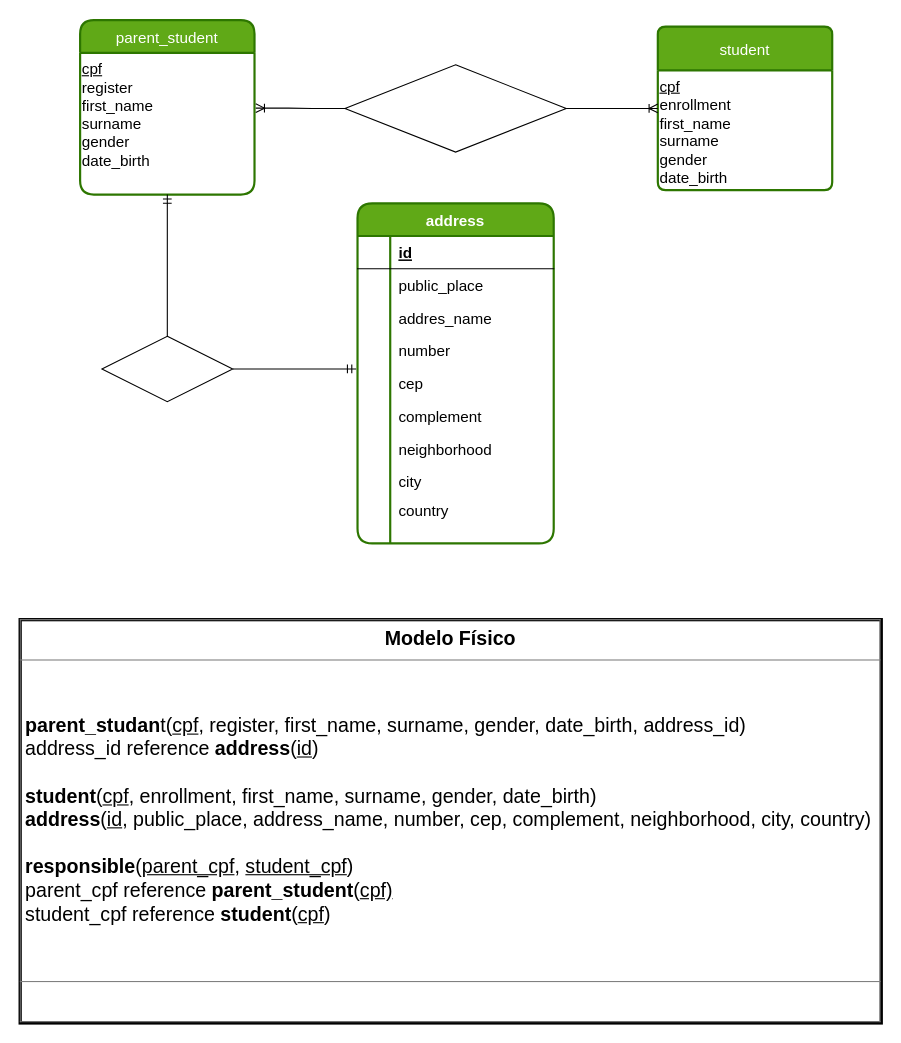
Some shapes in this 901 by 1043 pixel diagram are drawn without their labels. The centre of each missing label's shape, as x and y in pixels:
"resides" belongs at pixel 167 368.
"responsible" belongs at pixel 455 108.
